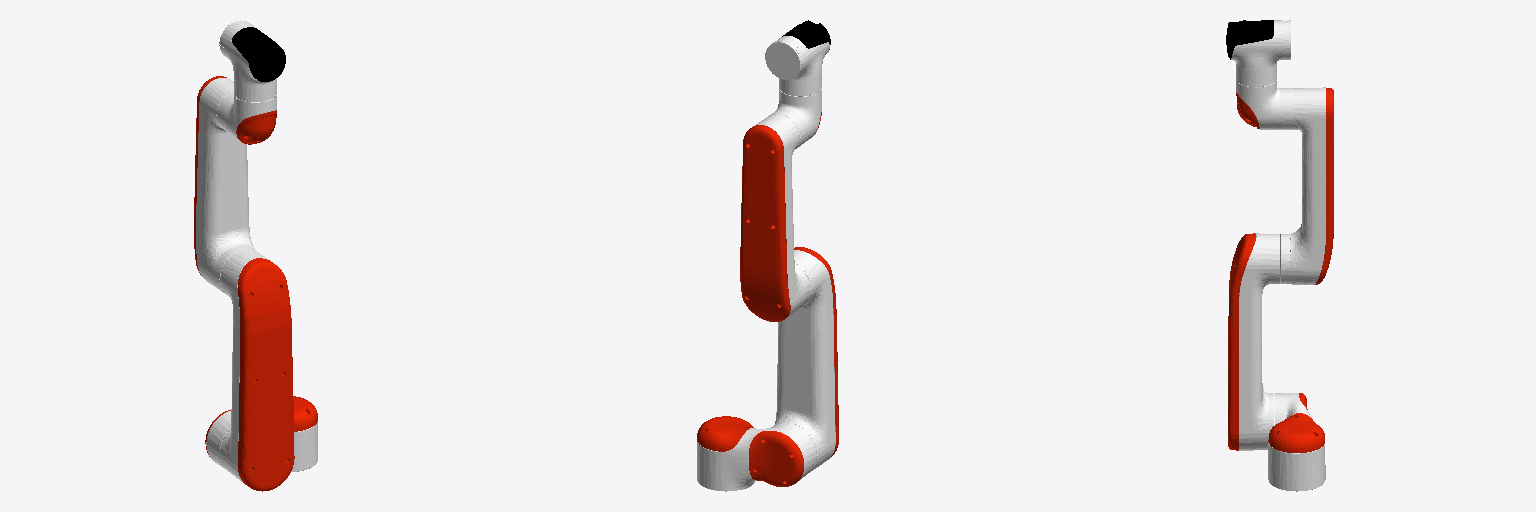
robot.urdf — eco65:
<?xml version='1.0' encoding='UTF-8'?>
<!-- This URDF was automatically created by SolidWorks to URDF Exporter! Originally created by Stephen Brawner (brawner@gmail.com)
     Commit Version: 1.6.0-1-g15f4949  Build Version: 1.6.7594.29634
     For more information, please see http://wiki.ros.org/sw_urdf_exporter-->
<robot name="eco65">
  <link name="baselink">
    <inertial>
      <origin rpy="0 0 0" xyz="0.003036 -0.000732 0.035587"/>
      <mass value="0.379"/>
      <inertia ixx="0.00052904" ixy="6.208e-06" ixz="-4.25e-05" iyy="0.000554542" iyz="7.765e-06" izz="0.000472967"/>
    </inertial>
    <visual>
      <origin rpy="0 0 0" xyz="0 0 0"/>
      <geometry>
        <mesh filename="package://rm_description/meshes/dae/eco65/base_link.dae"/>
      </geometry>
    </visual>
    <collision>
      <origin rpy="0 0 0" xyz="0 0 0"/>
      <geometry>
        <mesh filename="package://rm_description/meshes/ECO65/baselink.STL"/>
      </geometry>
    </collision>
  </link>
  <link name="Link1">
    <inertial>
      <origin rpy="0 0 0" xyz="-0.011054685 2.7361459e-05 -0.03347252"/>
      <mass value="1.50782"/>
      <inertia ixx="0.0019588448" ixy="-2.3338144e-05" ixz="0.00053244189" iyy="0.0031016399" iyz="9.1355063e-06" izz="0.002425702"/>
    </inertial>
    <visual>
      <origin rpy="0 0 0" xyz="0 0 0"/>
      <geometry>
        <mesh filename="package://rm_description/meshes/dae/eco65/link_1.dae"/>
      </geometry>
    </visual>
    <collision>
      <origin rpy="0 0 0" xyz="0 0 0"/>
      <geometry>
        <mesh filename="package://rm_description/meshes/ECO65/Link1.STL"/>
      </geometry>
    </collision>
  </link>
  <joint name="joint1" type="revolute">
    <origin xyz="0 0 0.1625" rpy="0 0 0"/>
    <parent link="baselink"/>
    <child link="Link1"/>
    <axis xyz="0 0 1"/>
    <limit effort="60" lower="-3.106686" upper="3.106686" velocity="3.141593"/>
  </joint>
  <link name="Link2">
    <inertial>
      <origin rpy="0 0 0" xyz="-1.1827560982036e-05 0.0581820316859641 0.0523635875292498"/>
      <mass value="2.0227481"/>
      <inertia ixx="0.0173147479782545" ixy="-6.2090363142666e-06" ixz="2.96020913640401e-06" iyy="0.00227460292023923" iyz="-0.00144144918722487" izz="0.0172255442015063"/>
    </inertial>
    <visual>
      <origin rpy="3.14158898038469 7.34641020661009e-06 1.5707963267814" xyz="0 0 0"/>
      <geometry>
        <mesh filename="package://rm_description/meshes/dae/eco65/link_2.dae"/>
      </geometry>
    </visual>
    <collision>
      <origin rpy="3.14158898038469 7.34641020661009e-06 1.5707963267814" xyz="0 0 0"/>
      <geometry>
        <mesh filename="package://rm_description/meshes/ECO65/Link2.STL"/>
      </geometry>
    </collision>
  </link>
  <joint name="joint2" type="revolute">
    <origin rpy="1.5708 0 0" xyz="-0.086 0 0"/>
    <parent link="Link1"/>
    <child link="Link2"/>
    <axis xyz="3.67320510324953e-06 -7.3464102065635e-06 -0.999999999966269"/>
    <limit effort="60" lower="-3.106686" upper="2.356194" velocity="3.141593"/>
  </joint>
  <link name="Link3">
    <inertial>
      <origin rpy="0 0 0" xyz="0.0927608650369262 -9.35058669887521e-05 0.00181173169117229"/>
      <mass value="1.8858232"/>
      <inertia ixx="0.00191652381683187" ixy="-3.36456196501919e-06" ixz="-0.00169426703402793" iyy="0.0224831040748002" iyz="4.49340801680471e-06" izz="0.0218928120083679"/>
    </inertial>
    <visual>
      <origin rpy="-1.10196153102445e-05 -7.34638322152925e-06 3.67327256545311e-06" xyz="0 0 0"/>
      <geometry>
        <mesh filename="package://rm_description/meshes/dae/eco65/link_3.dae"/>
      </geometry>
    </visual>
    <collision>
      <origin rpy="-1.10196153102445e-05 -7.34638322152925e-06 3.67327256545311e-06" xyz="0 0 0"/>
      <geometry>
        <mesh filename="package://rm_description/meshes/ECO65/Link3.STL"/>
      </geometry>
    </collision>
  </link>
  <joint name="joint3" type="revolute">
    <origin rpy="-3.14158530717959 0 1.5708" xyz="3.50802442650178e-12 0.259999999992984 -1.9100666536913e-06"/>
    <parent link="Link2"/>
    <child link="Link3"/>
    <axis xyz="-7.34642369894967e-06 1.101958832465e-05 0.999999999912299"/>
    <limit effort="30" lower="-2.792527" upper="2.530727" velocity="3.926991"/>
  </joint>
  <link name="Link4">
    <inertial>
      <origin rpy="0 0 0" xyz="-4.01148883191065e-05 -0.0349601672193299 0.00380178317316994"/>
      <mass value="0.57008114"/>
      <inertia ixx="0.000497615349667958" ixy="5.35705039856691e-07" ixz="6.17233202862662e-07" iyy="0.000316732930736851" iyz="-7.576478576108e-05" izz="0.000466587199595189"/>
    </inertial>
    <visual>
      <origin rpy="-7.3463427445208e-06 1.10196422946629e-05 3.67319161125999e-06" xyz="0 0 0"/>
      <geometry>
        <mesh filename="package://rm_description/meshes/dae/eco65/link_4.dae"/>
      </geometry>
    </visual>
    <collision>
      <origin rpy="-7.3463427445208e-06 1.10196422946629e-05 3.67319161125999e-06" xyz="0 0 0"/>
      <geometry>
        <mesh filename="package://rm_description/meshes/ECO65/Link4.STL"/>
      </geometry>
    </collision>
  </link>
  <joint name="joint4" type="revolute">
    <origin rpy="0 0 1.5708" xyz="0.240000432549332 2.32752055130155e-07 -0.0588782368628631"/>
    <parent link="Link3"/>
    <child link="Link4"/>
    <axis xyz="1.10196153094966e-05 7.34638322169204e-06 0.999999999912299"/>
    <limit effort="10" lower="-3.106686" upper="3.106686" velocity="3.926991"/>
  </joint>
  <link name="Link5">
    <inertial>
      <origin rpy="0 0 0" xyz="-3.94947255713416e-05 0.0226471863250741 -0.00736581902916809"/>
      <mass value="0.64138580"/>
      <inertia ixx="0.000623392164126553" ixy="-5.34181904997698e-07" ixz="-5.63337361425283e-07" iyy="0.000393373805621096" iyz="-0.000113396956738583" izz="0.00055741652025235"/>
    </inertial>
    <visual>
      <origin rpy="-7.34638322158019e-06 3.67315113369848e-06 -1.10196557870313e-05" xyz="0 0 0"/>
      <geometry>
        <mesh filename="package://rm_description/meshes/dae/eco65/link_5.dae"/>
      </geometry>
    </visual>
    <collision>
      <origin rpy="-7.34638322158019e-06 3.67315113369848e-06 -1.10196557870313e-05" xyz="0 0 0"/>
      <geometry>
        <mesh filename="package://rm_description/meshes/ECO65/Link5.STL"/>
      </geometry>
    </collision>
  </link>
  <joint name="joint5" type="revolute">
    <origin rpy="1.5708 0 0" xyz="4.04059982175579e-07 -0.10999999999629 8.08097701837738e-07"/>
    <parent link="Link4"/>
    <child link="Link5"/>
    <axis xyz="3.67323208790056e-06 7.34634274417768e-06 0.999999999966269"/>
    <limit effort="10" lower="-3.106686" upper="3.106686" velocity="3.926991"/>
  </joint>
  <link name="Link6">
    <inertial>
      <origin rpy="0 0 0" xyz="0.000342343794440939 -0.000189420093943737 -0.0285766702366254"/>
      <mass value="0.14611108984048"/>
      <inertia ixx="7.05928109974802E-05" ixy="-1.19201783223218E-06" ixz="-8.08327801418456E-07" iyy="6.9259426871958E-05" iyz="4.34362652271675E-07" izz="6.18079595264477E-05"/>
    </inertial>
    <visual>
    <origin
      xyz="0 0 0"
      rpy="0 0 0" />
    <geometry>
      <mesh
        filename="package://rm_description/meshes/dae/eco65/link6_6fi.dae" />
    </geometry>
  </visual>
    <collision>
      <origin xyz="0 0 0" rpy="0 0 0"/>
      <geometry>
        <mesh filename="package://rm_description/meshes/ECO65_6F/Link6.STL"/>
      </geometry>
    </collision>
  </link>
  <joint name="joint6" type="revolute">
    <origin xyz="0 0.108 0" rpy="-1.5708 0 0"/>
    <parent link="Link5"/>
    <child link="Link6"/>
    <axis xyz="-3.5522E-05 0 -1"/>
    <limit effort="100" lower="-2.96555" upper="2.96555" velocity="1"/>
  </joint>
</robot>

--- Facts derived from the render (not from the file) ---
Views: 3 orthographic renders of the robot side by side, from view 1: azimuth 30°, elevation 25°; view 2: azimuth 150°, elevation 25°; view 3: azimuth 270°, elevation 25°.
Model eco65 with 7 links and 6 joints (6 revolute), rooted at baselink, posed all joints at 0.
Visible links, largest first — view 1: Link2, Link3, Link5, Link1, Link4; view 2: Link3, Link2, Link1, Link5, Link4; view 3: Link2, Link3, Link1, Link5, Link4.
Link boxes in pixels (x1,y1,x2,y2): Link2: (220,249,294,491); Link3: (194,76,256,292); Link5: (219,20,285,101); Link1: (205,396,317,471); Link4: (217,92,276,144); Link3: (740,114,810,321); Link2: (775,247,838,470); Link1: (697,416,816,491); Link5: (765,20,830,96); Link4: (769,89,821,148); Link2: (1228,233,1279,450); Link3: (1280,87,1333,284); Link1: (1268,393,1325,491); Link5: (1226,20,1290,86); Link4: (1236,80,1293,129).
Bounding box of the posed robot: 0.1697 × 0.1579 × 0.691 m (x, y, z).
Meshes: 7 distinct files referenced, 5 mesh visuals loaded (5 Collada DAE); not drawn: 2 (reference not matched to a file when rendering).
